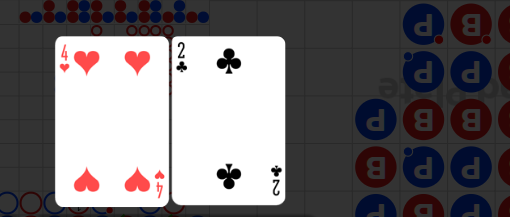2C: (268, 162, 282, 197)
4H: (152, 168, 165, 199)
